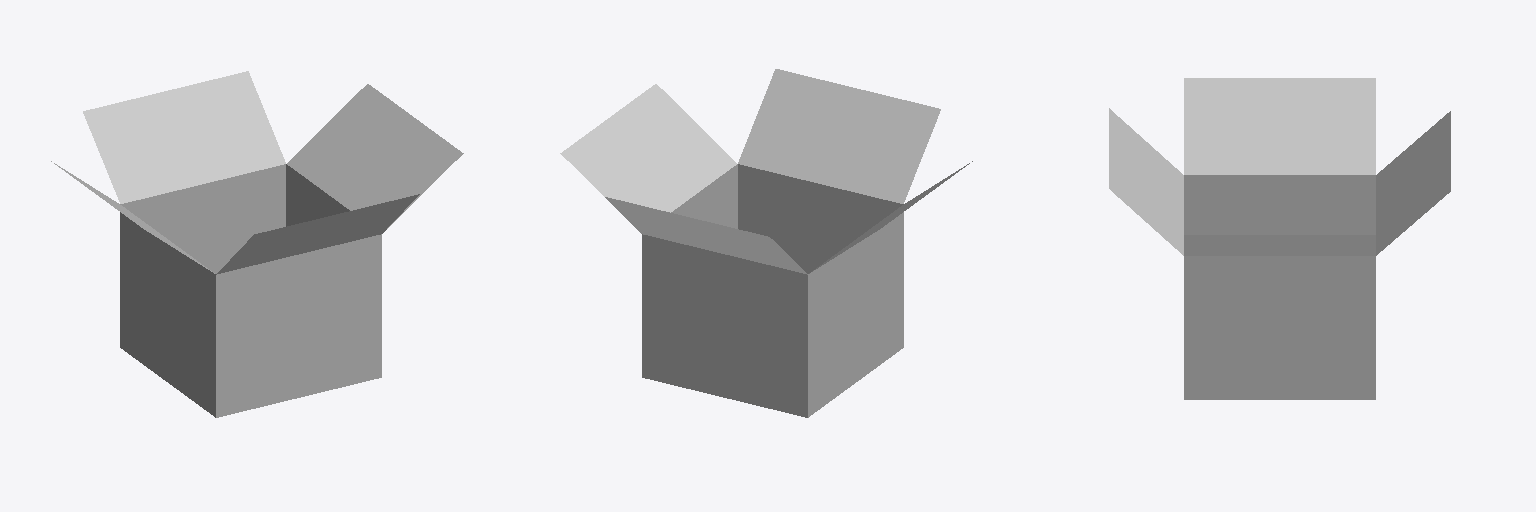
The model's file is openbox.obj.
The picture shows the model from 3 angles: view 1: azimuth 30°, elevation 25°; view 2: azimuth 150°, elevation 25°; view 3: azimuth 270°, elevation 25°; orthographic projection.
Parts seen in each view (by area): view 1: box:Mesh; view 2: box:Mesh; view 3: box:Mesh.
Part boxes in pixels (left/top/right/bottom): box:Mesh: left=51, top=71, right=463, bottom=417; box:Mesh: left=560, top=69, right=972, bottom=417; box:Mesh: left=1109, top=78, right=1450, bottom=399.
Bounding box in the file's own units: 0.5324 × 0.3365 × 0.4952.